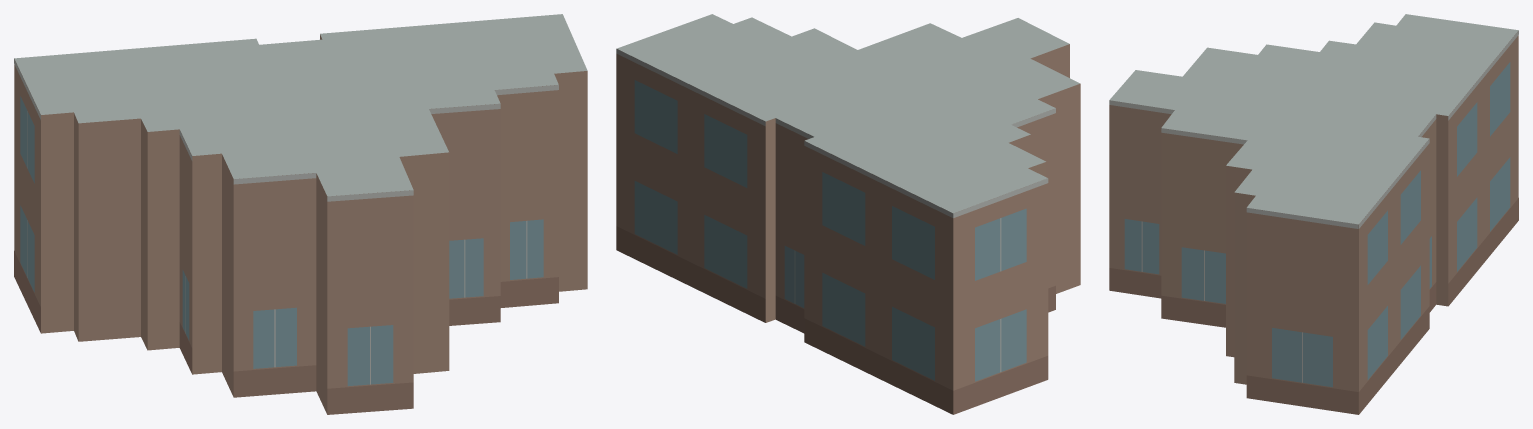
The model's file is survey-upis-32950747.glb.
3 views of the same model, side by side, from view 1: azimuth 30°, elevation 25°; view 2: azimuth 150°, elevation 25°; view 3: azimuth 270°, elevation 25° (orthographic). The views are drawn at different scales.
Parts seen in each view (by area): view 1: survey-upis-32950747.tmp; view 2: survey-upis-32950747.tmp; view 3: survey-upis-32950747.tmp.
Part boxes in pixels (x1,y1,x2,y2): survey-upis-32950747.tmp: (14,14,587,414); survey-upis-32950747.tmp: (616,14,1080,414); survey-upis-32950747.tmp: (1109,14,1518,414).
Bounding box in the file's own units: 23.7 × 9.99 × 19.49.
